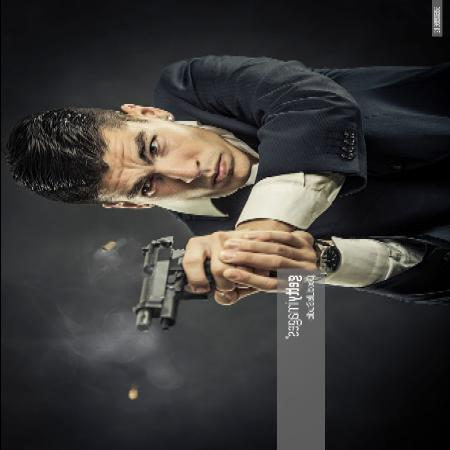Pistol: (130, 232, 219, 333)
